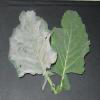Squash Powdery mildew leaf: (6, 9, 58, 76), (49, 8, 91, 77)
